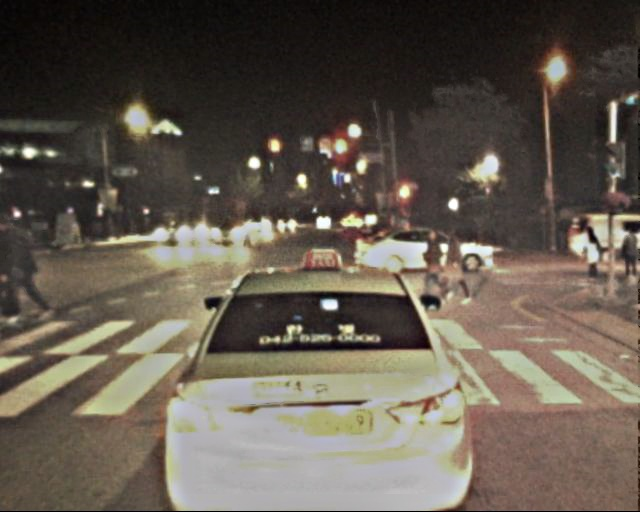person: (1, 212, 41, 325), (440, 225, 475, 310), (422, 231, 455, 311), (581, 228, 605, 287), (617, 227, 639, 285)
